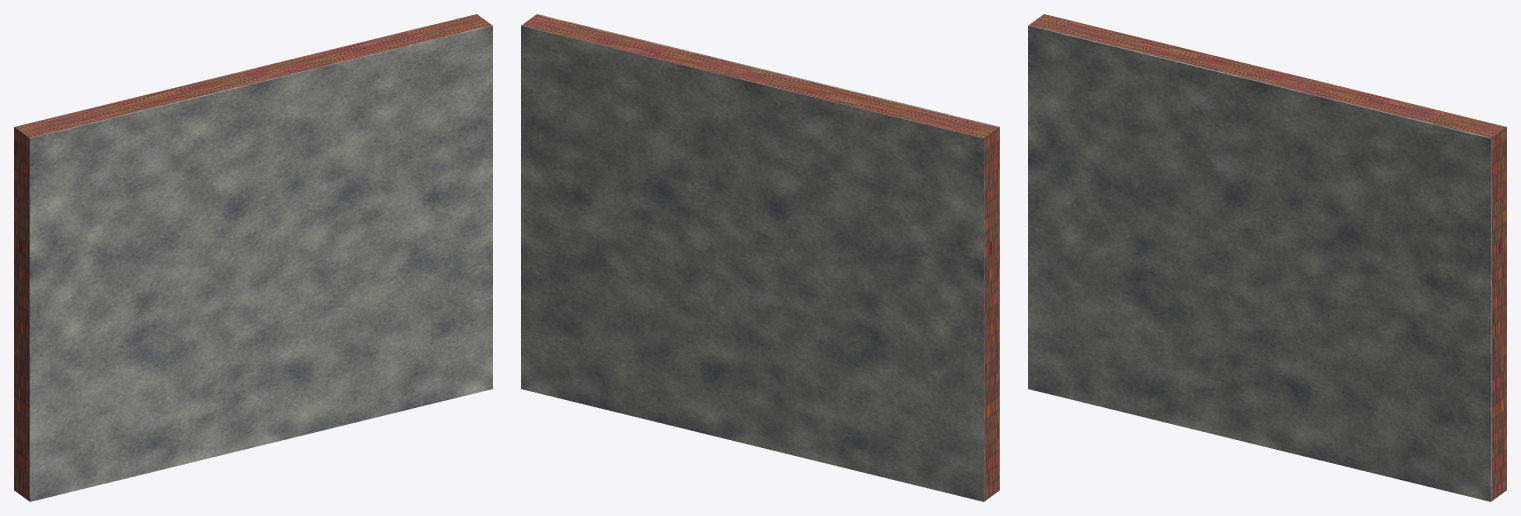
The model's file is ProjectZ_Wall_4m_Intact.glb.
3 views of the same model, side by side, from view 1: azimuth 30°, elevation 25°; view 2: azimuth 150°, elevation 25°; view 3: azimuth 330°, elevation 25° (orthographic).
Parts seen in each view (by area): view 1: Render_Front_Concrete_Plaster, Render_Brick_Masonry_Core, Render_Rear_Concrete_Finish; view 2: Render_Rear_Concrete_Finish, Render_Brick_Masonry_Core, Render_Front_Concrete_Plaster; view 3: Render_Front_Concrete_Plaster, Render_Brick_Masonry_Core, Render_Rear_Concrete_Finish.
Part boxes in pixels (box(x1,y1,x2,y2)): Render_Front_Concrete_Plaster: box(29, 25, 492, 501); Render_Brick_Masonry_Core: box(14, 14, 491, 500); Render_Rear_Concrete_Finish: box(14, 14, 476, 489); Render_Rear_Concrete_Finish: box(521, 25, 984, 501); Render_Brick_Masonry_Core: box(521, 15, 998, 501); Render_Front_Concrete_Plaster: box(536, 14, 999, 490); Render_Front_Concrete_Plaster: box(1028, 25, 1491, 501); Render_Brick_Masonry_Core: box(1029, 14, 1506, 500); Render_Rear_Concrete_Finish: box(1044, 14, 1506, 489).
Bounding box in the file's own units: 4 × 3 × 0.24.
2 materials, 2 textured.
